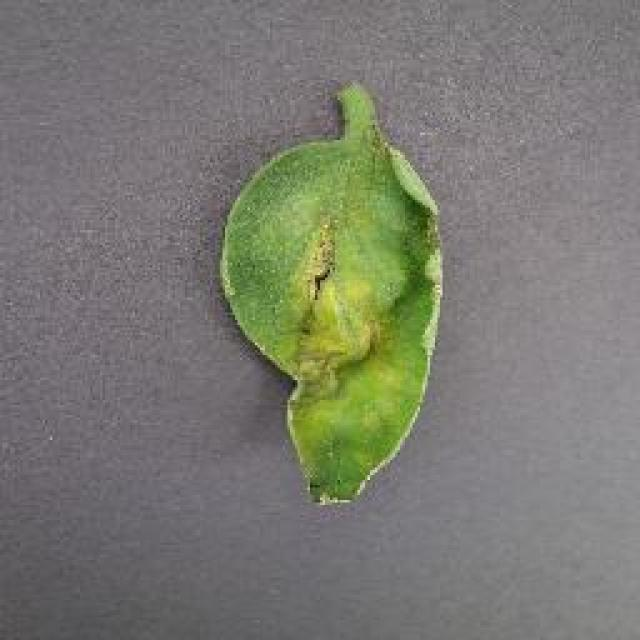Tomato Late Blight: (170, 196, 460, 482)
